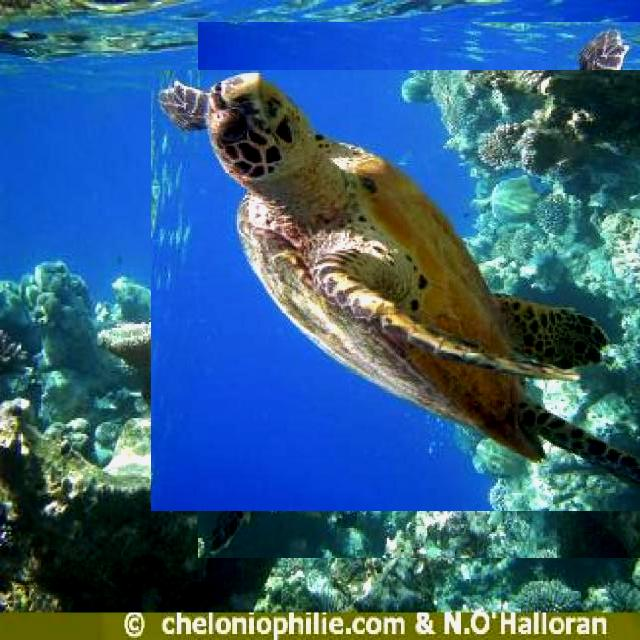Sea turtle: (174, 45, 640, 534)
